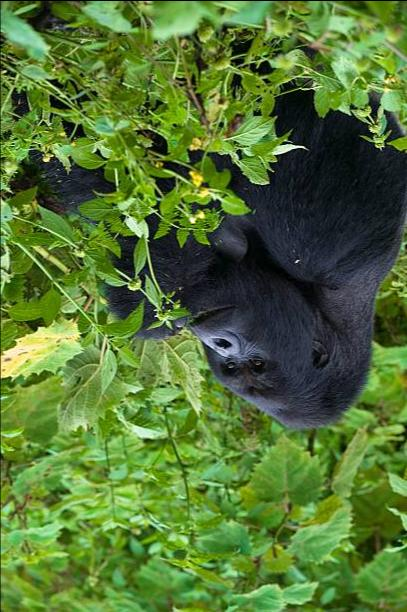goriile_montagne: (25, 50, 392, 464)
